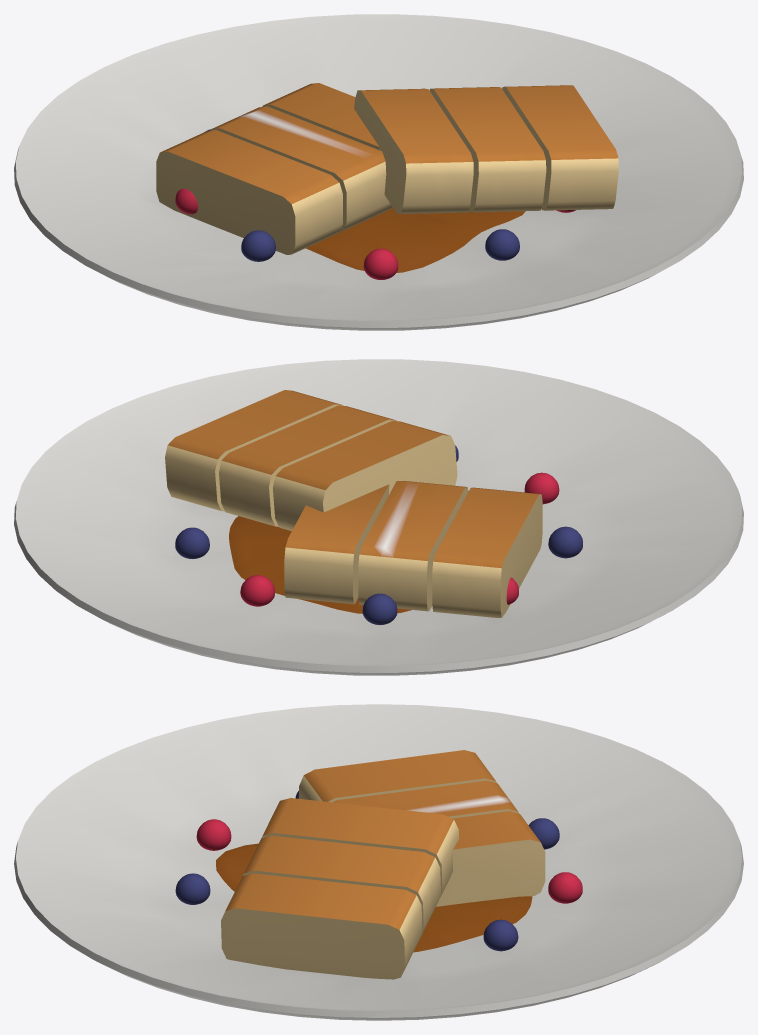
Rendered from dish-french-toast-lod0.glb.
3 views of the same model, one above another, from view 1: azimuth 30°, elevation 25°; view 2: azimuth 150°, elevation 25°; view 3: azimuth 270°, elevation 25° (orthographic).
Parts seen in each view (by area): view 1: french-toast.lod0__table porcelain, french-toast.lod0__food, french-toast.lod0__food glaze; view 2: french-toast.lod0__table porcelain, french-toast.lod0__food, french-toast.lod0__food glaze; view 3: french-toast.lod0__table porcelain, french-toast.lod0__food, french-toast.lod0__food glaze.
Part boxes in pixels (x1,y1,x2,y2): french-toast.lod0__table porcelain: [14, 14, 743, 330]; french-toast.lod0__food: [156, 83, 618, 254]; french-toast.lod0__food glaze: [175, 129, 575, 279]; french-toast.lod0__table porcelain: [14, 359, 743, 675]; french-toast.lod0__food: [165, 390, 542, 617]; french-toast.lod0__food glaze: [175, 445, 582, 624]; french-toast.lod0__table porcelain: [14, 704, 743, 1020]; french-toast.lod0__food: [221, 750, 545, 979]; french-toast.lod0__food glaze: [175, 791, 582, 952].
Bounding box in the file's own units: 0.27 × 0.044 × 0.27.
